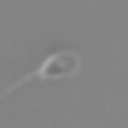normal: (1, 68, 39, 103)
